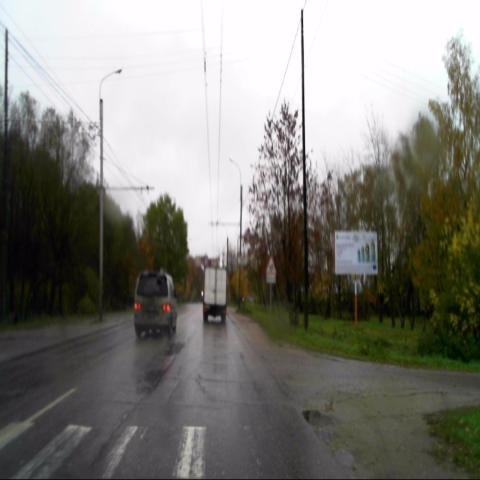1_23: (266, 256, 276, 275)
